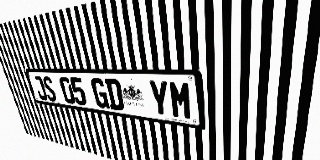0: (58, 77, 76, 104)
5: (69, 77, 88, 106)
D: (104, 78, 125, 111)
G: (90, 78, 110, 109)
J: (32, 76, 48, 101)
M: (168, 81, 193, 120)
S: (41, 76, 58, 102)
Y: (148, 80, 171, 117)
